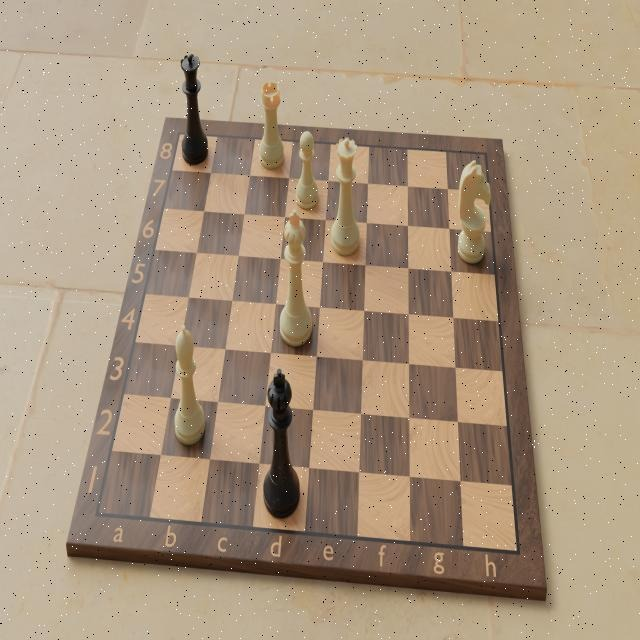black-king: (262, 366, 301, 519)
black-queen: (179, 52, 208, 166)
white-bishop: (173, 324, 206, 447)
white-king: (279, 209, 313, 347)
white-knight: (456, 158, 491, 266)
white-pawn: (294, 129, 319, 210)
white-queen: (331, 135, 361, 257)
white-rook: (259, 79, 285, 171)
